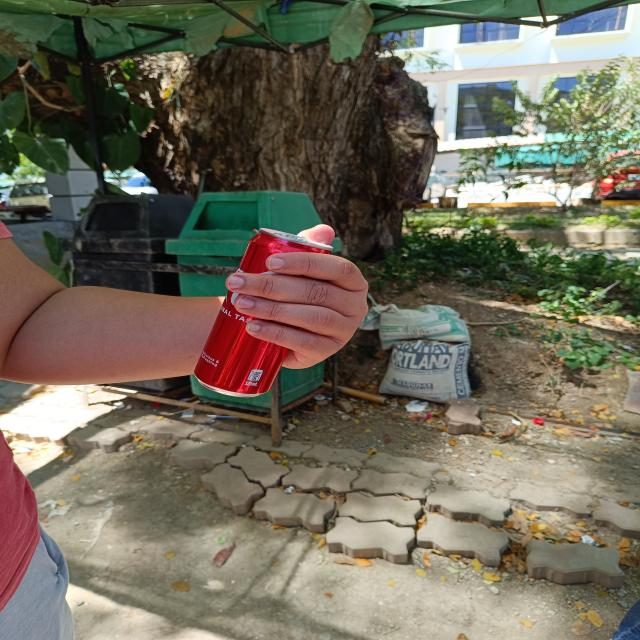coke: (194, 226, 332, 394)
